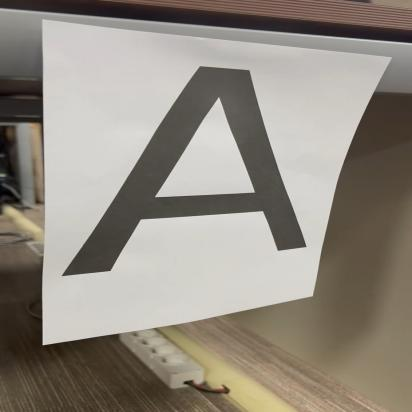seat: (71, 51, 322, 276)
